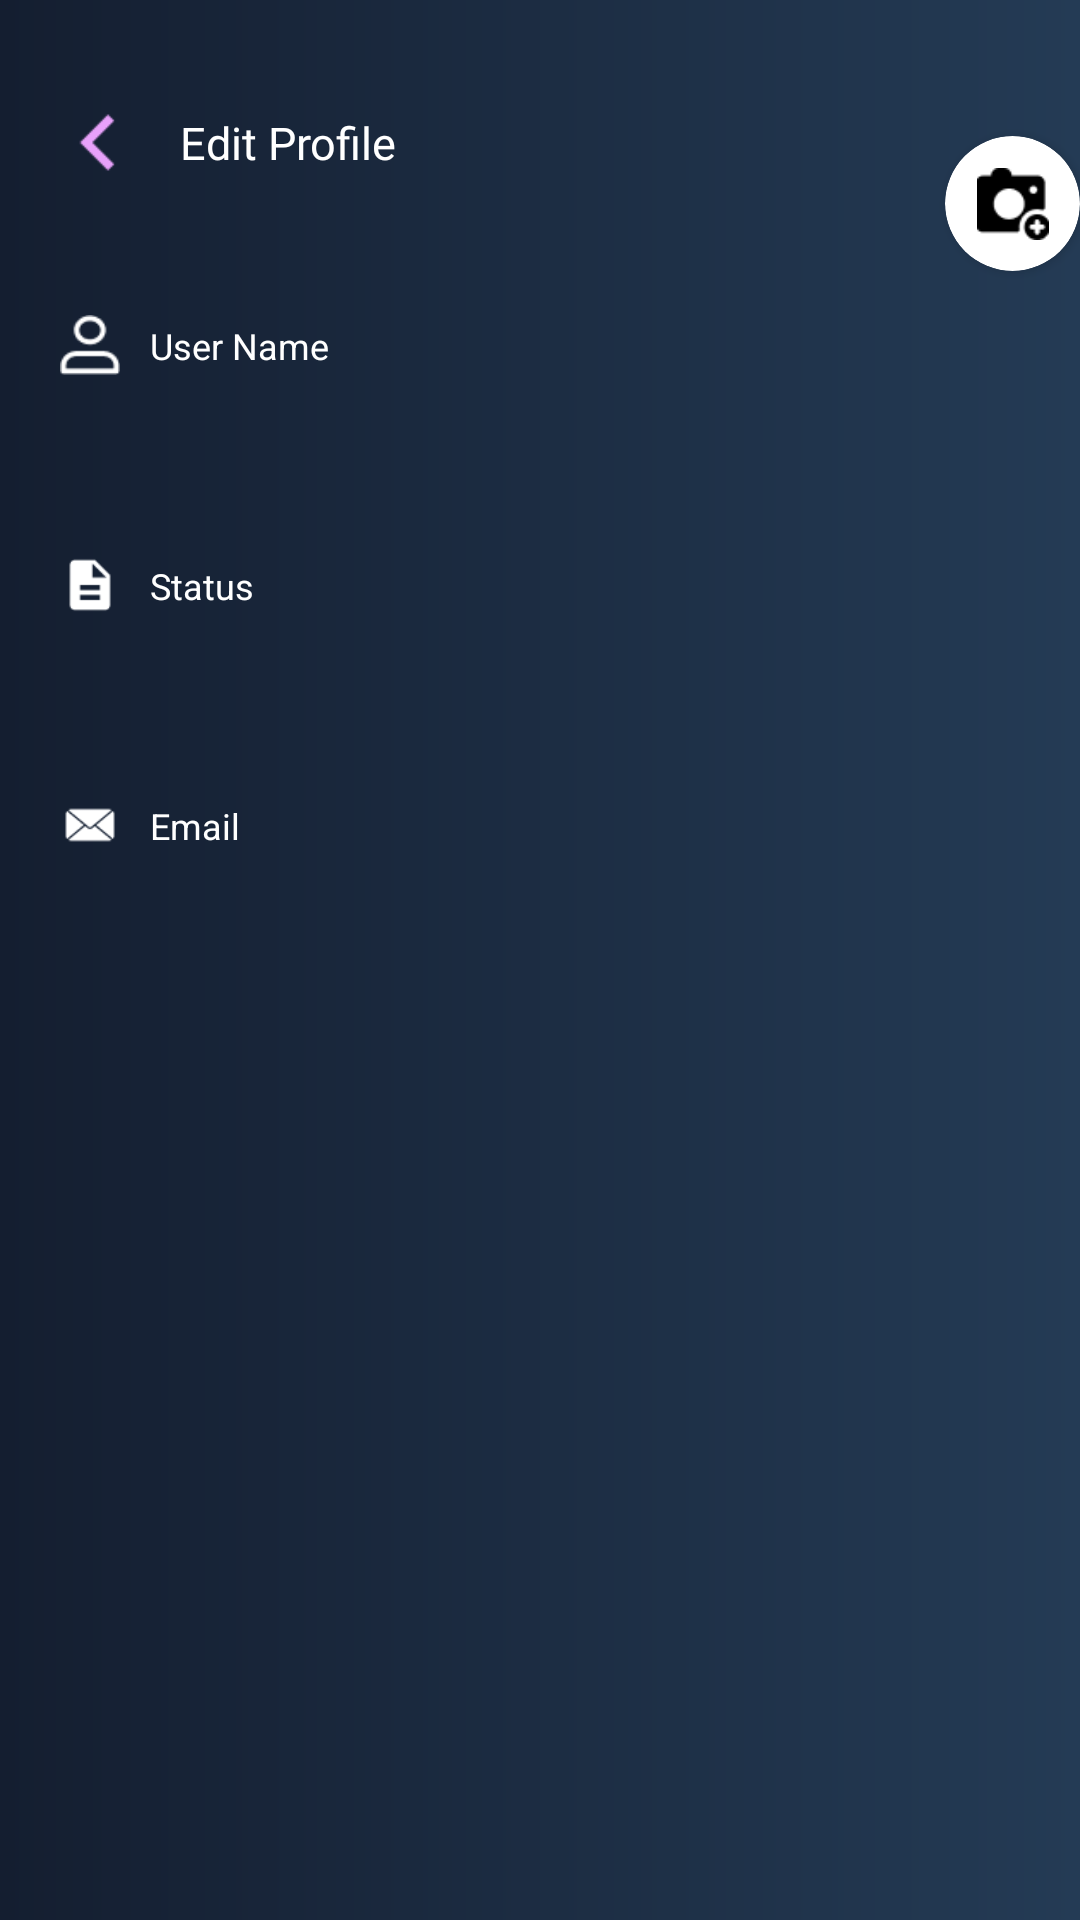

Icons on this 1080px×1920px Android screen, each with its box as box(x1, y1, x2, y2):
back: box(80, 114, 114, 171)
person pic: box(60, 315, 120, 375)
